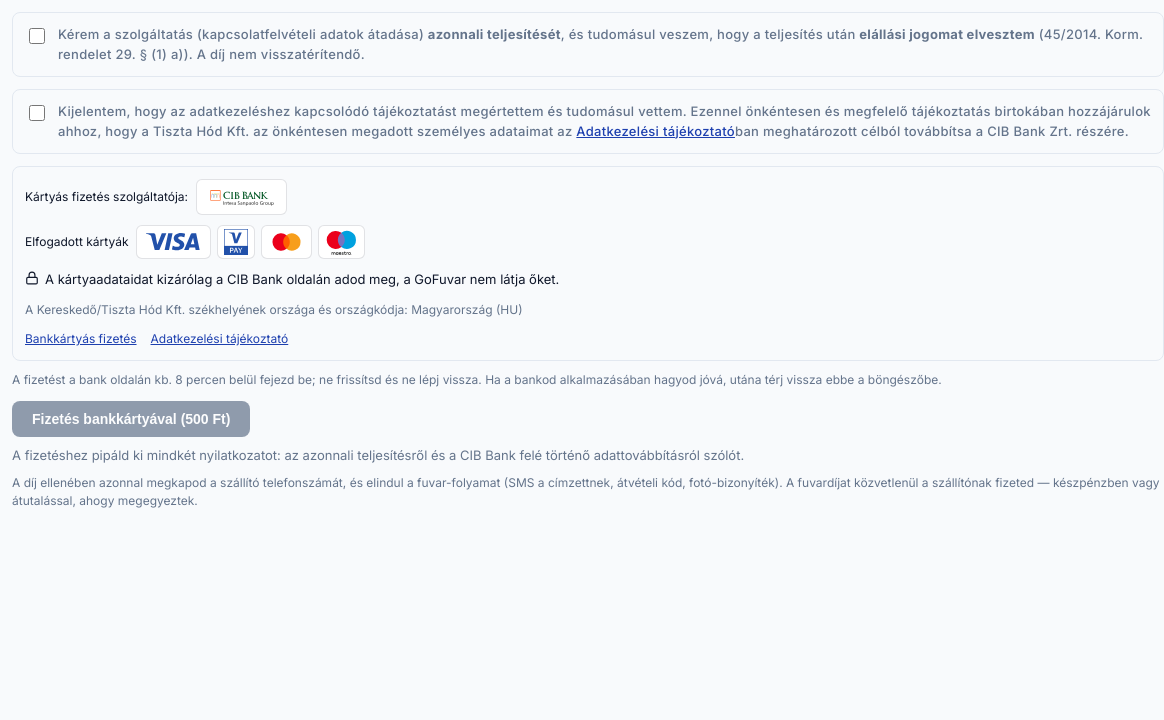
Test: a letiltott gomb megmondja, miért (lelet 29) › CIB: a hiányzó nyilatkozat(ok) neve a gombhoz kötve (aria-describedby), és frissül
This screenshot has width=1164, height=720.
expect the button "Fizetés bankkártyával (500 Ft)" is disabled: met, box [12,401,250,437]
Click the checkbox labelled "azonnali teljesítését". click: click(37, 36)
box: [29,28,45,44]
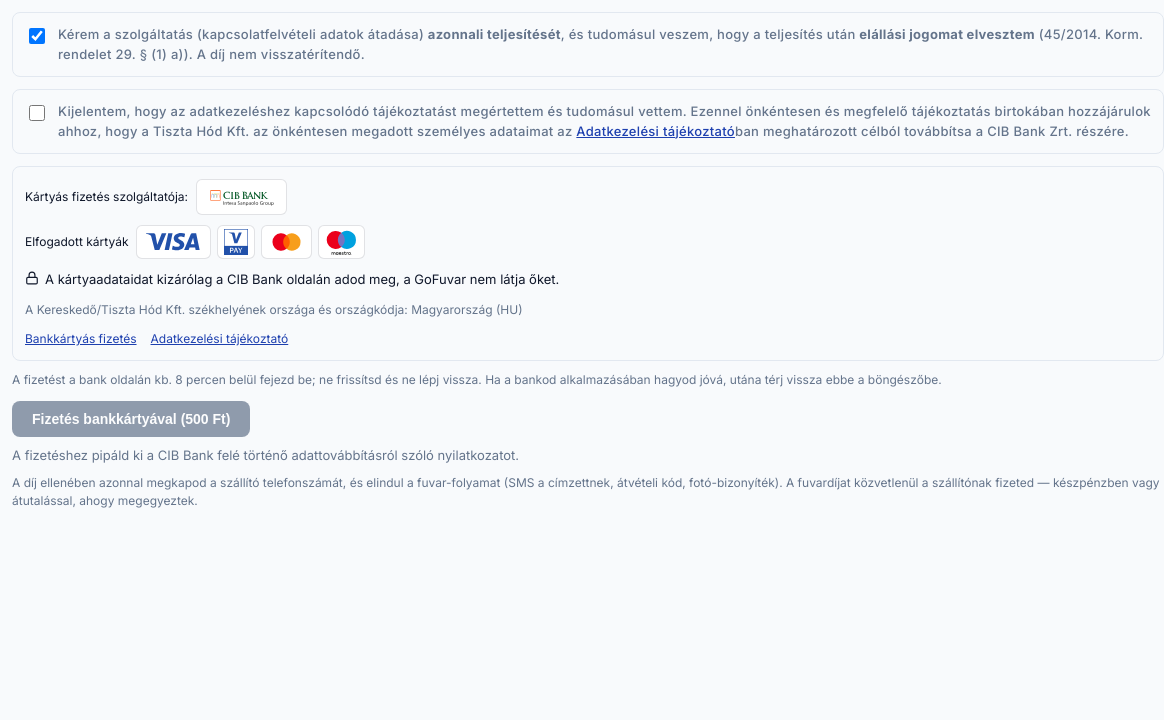
expect the text "CIB Bank felé történő adattovábbítás" is shown: met, box [12,447,519,463]
Click the checkbox labelled "Kijelentem, hogy az adatkezeléshez". click: click(37, 113)
box: [29,105,45,121]
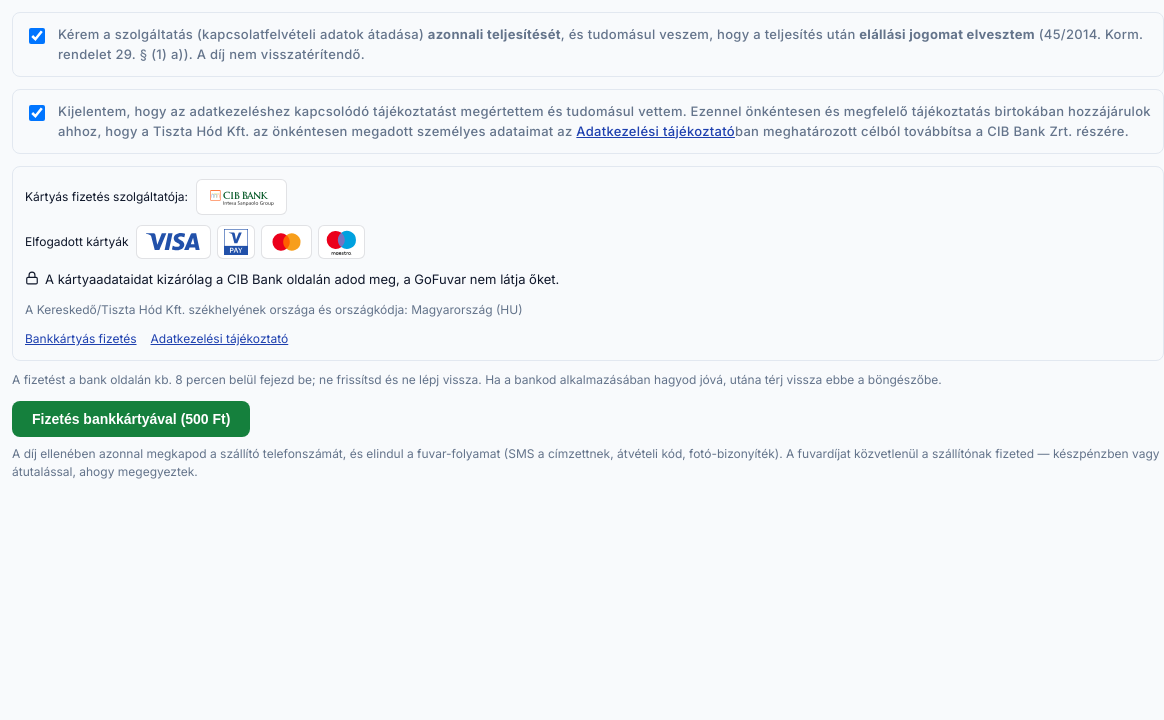
expect the button "Fizetés bankkártyával (500 Ft)" is enabled: met, box [12,401,250,437]
